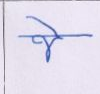e_matra: (26, 16, 61, 35)
